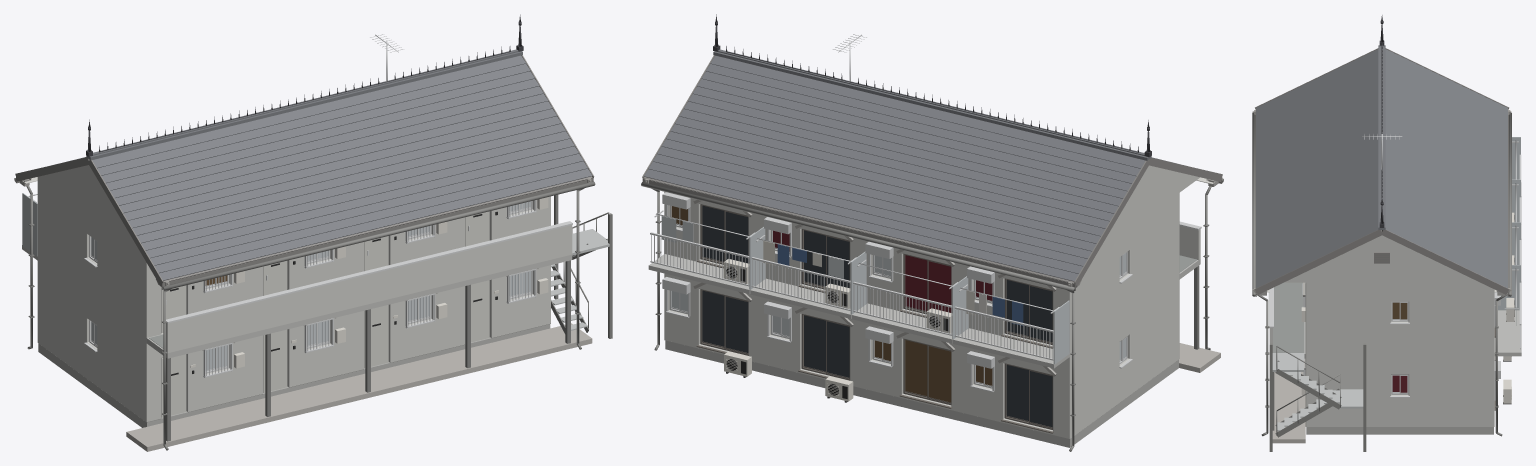
File: blk_apartments.glb
3 views of the same model, side by side, from view 1: azimuth 30°, elevation 25°; view 2: azimuth 150°, elevation 25°; view 3: azimuth 270°, elevation 25° (orthographic). The views are drawn at different scales.
Parts seen in each view (by area): view 1: blk_apartments; view 2: blk_apartments; view 3: blk_apartments.
Part boxes in pixels (<box>): blk_apartments: <box>14,14,612,451</box>; blk_apartments: <box>641,14,1223,451</box>; blk_apartments: <box>1252,15,1521,451</box>.
Bounding box in the file's own units: 16.13 × 9.57 × 9.35.
